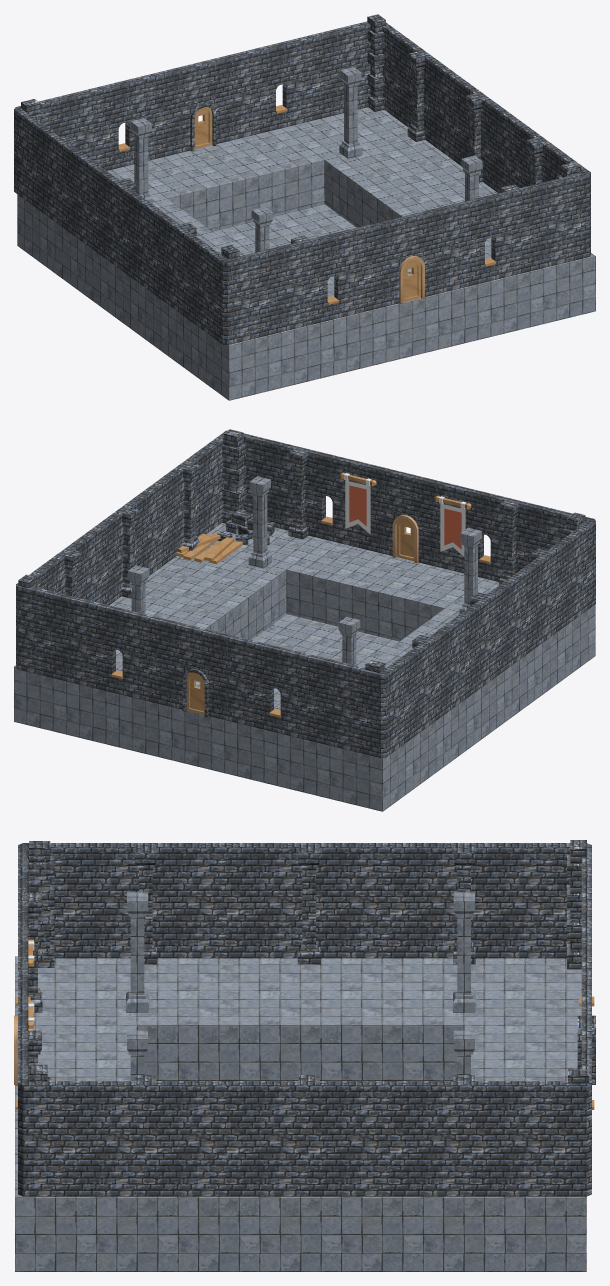
The model's file is dungeon.fbx.
3 views of the same model, one above another, from view 1: azimuth 30°, elevation 25°; view 2: azimuth 150°, elevation 25°; view 3: azimuth 270°, elevation 25° (orthographic). The views are drawn at different scales.
Parts seen in each view (by area): view 1: block_default_6, block_default_13, wall_straight_8 (×2), block_default_15, wall_corner_12 (×2), wall_straight_11, block_default_14, wall_straight_15, wall_straight_3, wall_corner_22, wall_corner_9, block_default_21 (+23 smaller); view 2: block_default_13, block_default_6, wall_straight_8 (×2), block_default_14, wall_corner_12 (×2), wall_straight_11, block_default_15, wall_straight_3, wall_corner_9, wall_straight_15, wall_corner_22, block_default_21 (+29 smaller); view 3: block_default_13, wall_straight_11, block_default_6, wall_straight_8, wall_corner_12 (×2), wall_corner_9, wall_corner_22, block_default_15, block_default_14, wall_borderBricks_46, structure_column_37, structure_column_36 (+9 smaller).
Part boxes in pixels (box(x1,y1,x2,y2)): block_default_6: box(281, 107, 595, 336); block_default_13: box(17, 166, 333, 400); wall_straight_8 (×2): box(38, 99, 204, 321); block_default_15: box(124, 128, 324, 231); wall_corner_12 (×2): box(323, 21, 590, 269); wall_straight_11: box(400, 36, 566, 192); block_default_14: box(327, 268, 491, 374); wall_straight_15: box(264, 183, 545, 277); wall_straight_3: box(54, 29, 340, 124); wall_corner_22: box(192, 238, 280, 344); wall_corner_9: box(14, 94, 72, 213); block_default_21: box(213, 204, 356, 276); block_default_13: box(277, 578, 595, 811); block_default_6: box(14, 523, 326, 747); wall_straight_8 (×2): box(223, 542, 565, 734); block_default_14: box(286, 540, 484, 641); wall_corner_12 (×2): box(16, 430, 284, 681); wall_straight_11: box(41, 447, 207, 605); block_default_15: box(119, 681, 280, 785); wall_straight_3: box(57, 594, 342, 689); wall_corner_9: box(327, 650, 416, 757); wall_straight_15: box(268, 441, 553, 536); wall_corner_22: box(538, 506, 595, 625); block_default_21: box(251, 614, 399, 667); block_default_13: box(15, 956, 581, 1081); wall_straight_11: box(81, 1081, 527, 1196); block_default_6: box(15, 1128, 586, 1271); wall_straight_8: box(80, 843, 529, 958); wall_corner_12 (×2): box(18, 1046, 591, 1196); wall_corner_9: box(504, 843, 591, 958); wall_corner_22: box(18, 843, 107, 958); block_default_15: box(464, 1025, 577, 1081); block_default_14: box(15, 1025, 137, 1128); wall_borderBricks_46: box(29, 841, 54, 967); structure_column_37: box(126, 892, 148, 1012); structure_column_36: box(453, 892, 475, 1012).
Bounding box in the file's own units: 70.62 × 26 × 71.25.
Materials: 8 (6 with a texture image).
